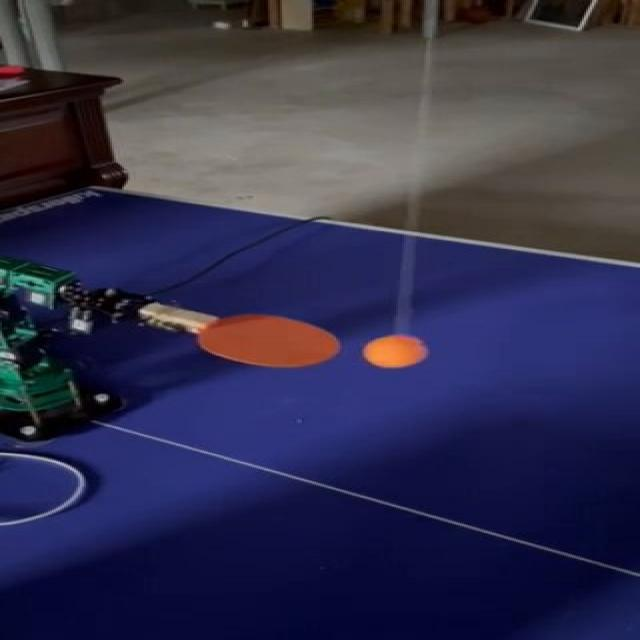ping-pong-ball: (362, 336, 424, 368)
